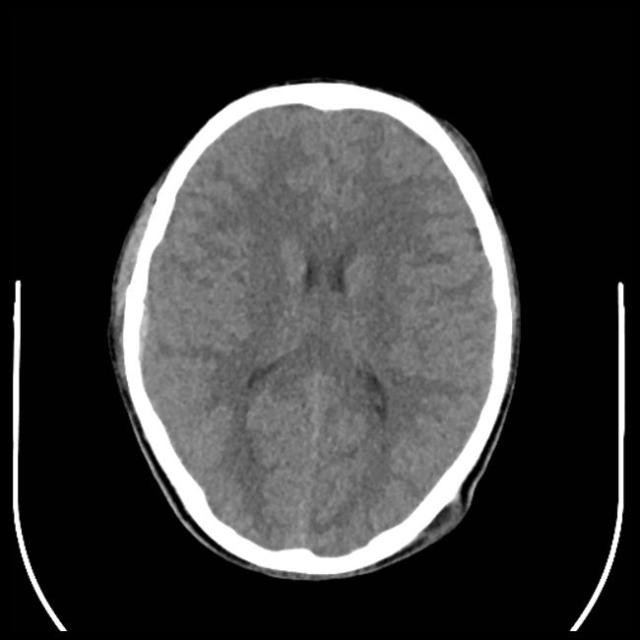lesion: (107, 79, 523, 579)
